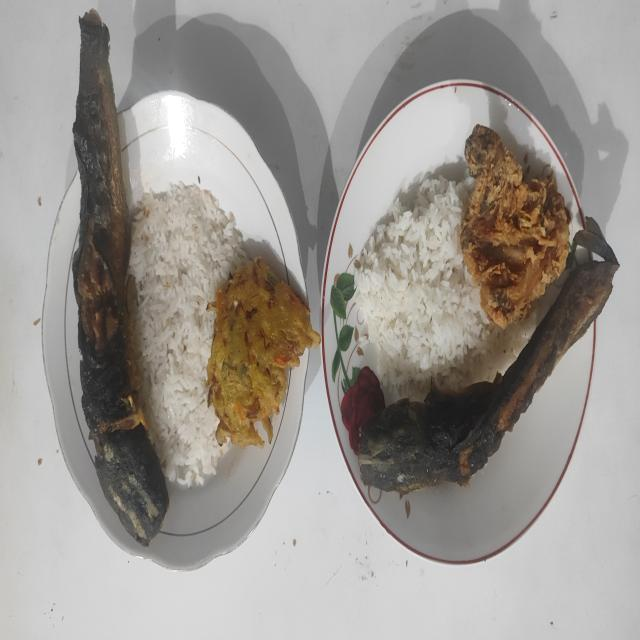nasi_putih: (352, 164, 540, 402), (128, 182, 252, 488)
